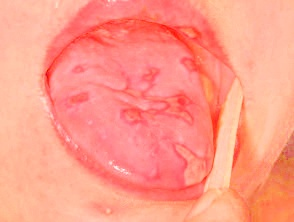SJS-TEN: (114, 60, 199, 132), (169, 47, 230, 114), (167, 130, 220, 195), (170, 19, 205, 51)
